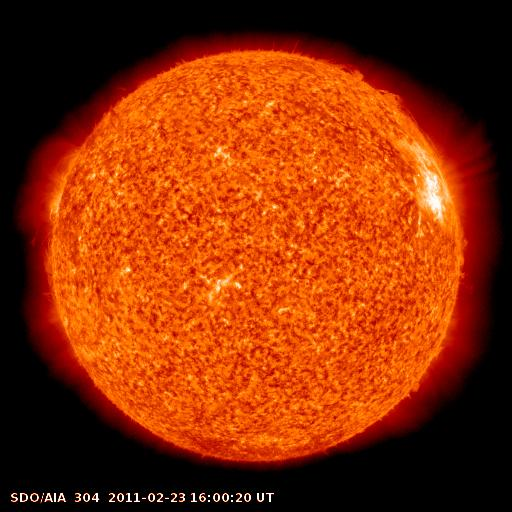prominence: (321, 50, 413, 113), (27, 241, 67, 302)
